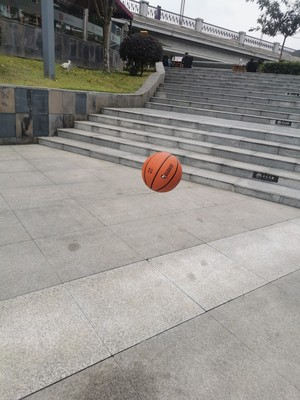ball: (142, 151, 183, 193)
